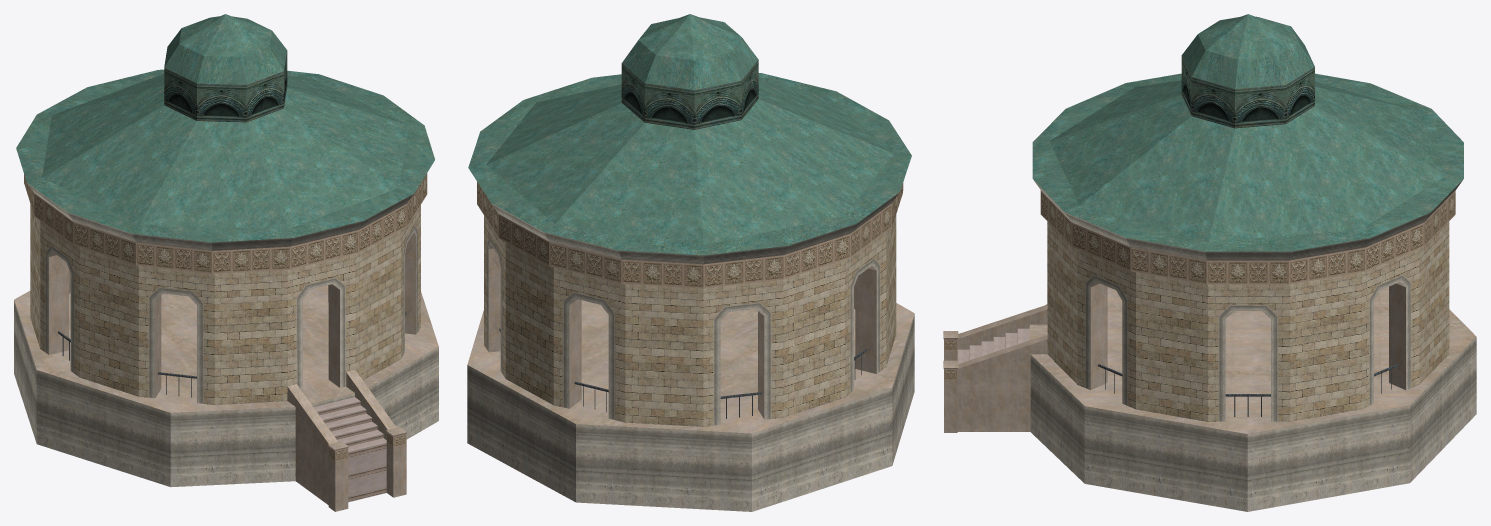
The model's file is thm_nboo_thed_imprv_building_s09_l1.fbx.
3 renders of one model, left to right at view 1: azimuth 30°, elevation 25°; view 2: azimuth 150°, elevation 25°; view 3: azimuth 270°, elevation 25°, orthographic. The views are drawn at different scales.
Visible parts, largest first — view 1: mesh_node; view 2: mesh_node; view 3: mesh_node.
Part boxes in pixels (left/top/right/bottom): mesh_node: left=14, top=14, right=438, bottom=511; mesh_node: left=467, top=14, right=914, bottom=511; mesh_node: left=943, top=14, right=1476, bottom=511.
Size of the model in its own units: 17.23 by 16.57 by 19.98.
